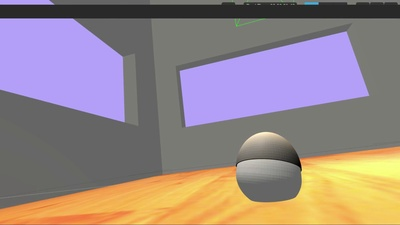mira_robot: (236, 132, 302, 202)
